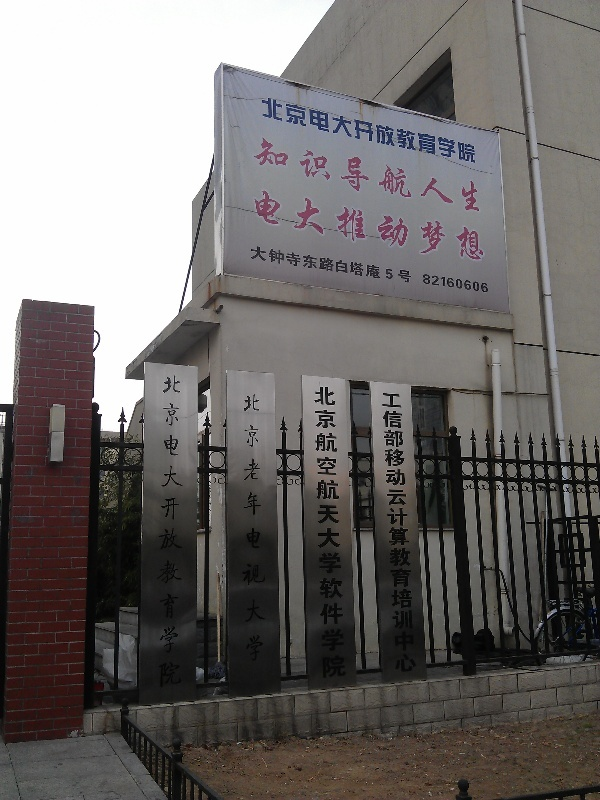text: (321, 385, 336, 680), (162, 373, 176, 689), (385, 389, 400, 676), (401, 389, 416, 676), (242, 389, 256, 668), (257, 389, 267, 668), (337, 385, 346, 680), (313, 385, 320, 680), (177, 373, 183, 689), (465, 135, 481, 216), (257, 135, 272, 216), (273, 135, 288, 216), (289, 135, 304, 216), (305, 135, 320, 216), (321, 135, 336, 216), (337, 135, 352, 216), (353, 135, 368, 216), (369, 135, 384, 216), (385, 135, 400, 216), (401, 135, 416, 216), (417, 135, 432, 216), (433, 135, 448, 216), (449, 135, 464, 216), (257, 187, 272, 265), (273, 187, 288, 265), (289, 187, 304, 265), (305, 187, 320, 265), (321, 187, 336, 265), (337, 187, 352, 265), (353, 187, 368, 265), (369, 187, 384, 265), (385, 187, 400, 265), (401, 187, 416, 265), (417, 187, 432, 265), (433, 187, 448, 265), (449, 187, 464, 265), (465, 187, 480, 265), (273, 96, 288, 165), (289, 96, 304, 165), (305, 96, 320, 165), (321, 96, 336, 165), (337, 96, 352, 165), (353, 96, 368, 165), (369, 96, 384, 165), (385, 96, 400, 165), (401, 96, 416, 165), (417, 96, 432, 165), (433, 96, 448, 165), (449, 96, 464, 165), (465, 96, 479, 165), (261, 96, 272, 165), (257, 245, 272, 285), (273, 245, 288, 285), (289, 245, 304, 285), (305, 245, 320, 285), (321, 245, 336, 285), (337, 245, 352, 285), (353, 245, 368, 285), (369, 245, 384, 285), (385, 245, 400, 285), (382, 389, 384, 676), (417, 389, 419, 676), (401, 245, 412, 285), (433, 273, 448, 294), (449, 273, 464, 294), (465, 273, 480, 294), (481, 187, 485, 265), (250, 245, 256, 285), (423, 273, 432, 294), (481, 273, 490, 294), (254, 135, 256, 216), (254, 187, 256, 265)
